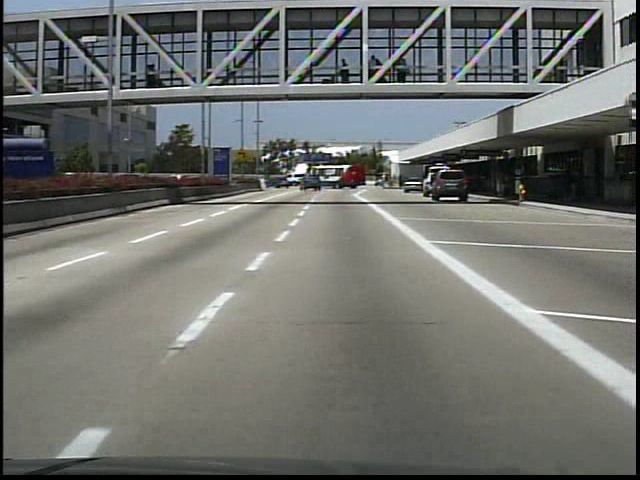person: (335, 55, 355, 87), (145, 61, 165, 91), (492, 167, 510, 200)
